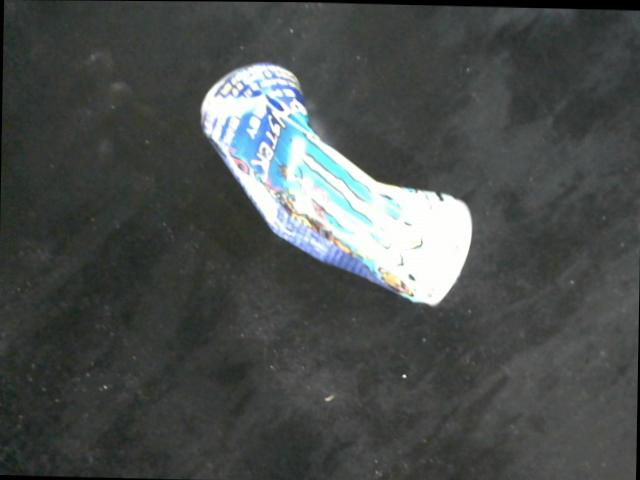can: (201, 57, 476, 307)
